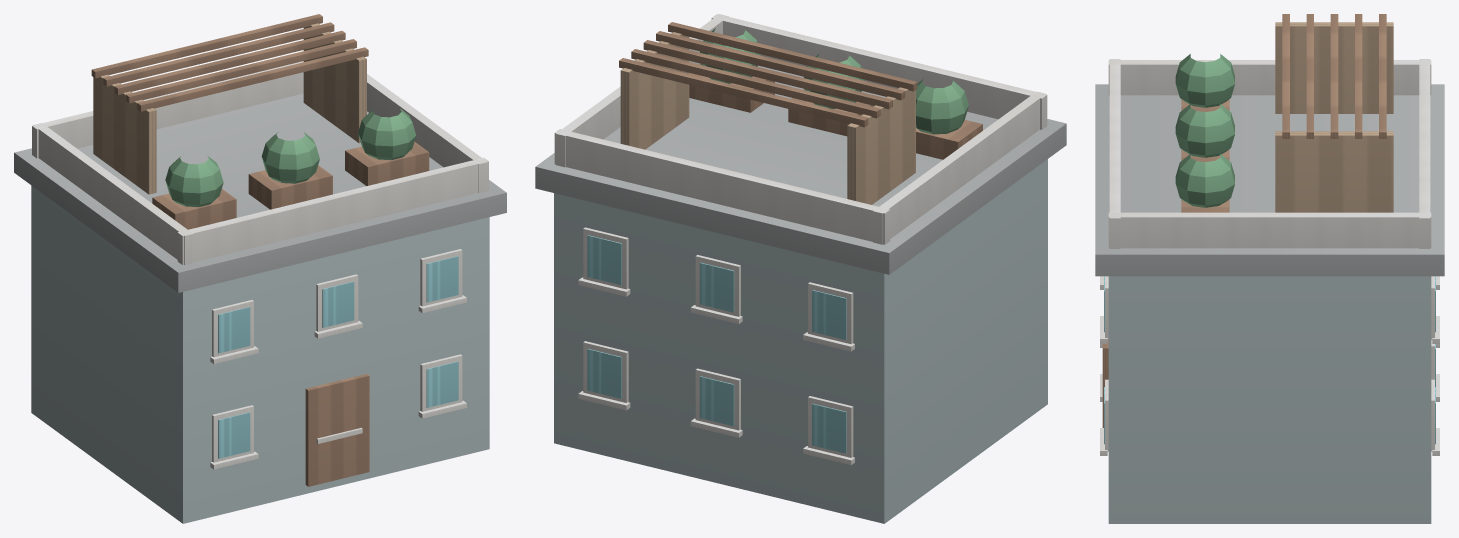
The model's file is roof_garden_home.glb.
The picture shows the model from 3 angles, left to right: view 1: azimuth 30°, elevation 25°; view 2: azimuth 150°, elevation 25°; view 3: azimuth 270°, elevation 25°; orthographic projection. The views are drawn at different scales.
Parts seen in each view (by area): view 1: roof_garden_home; view 2: roof_garden_home; view 3: roof_garden_home.
Part boxes in pixels (bbox=[...]): roof_garden_home: bbox=[14, 14, 506, 523]; roof_garden_home: bbox=[535, 14, 1066, 523]; roof_garden_home: bbox=[1095, 14, 1444, 523].
Size of the model in its own units: 7.5 by 7.62 by 6.5.
1 material, 1 textured.
